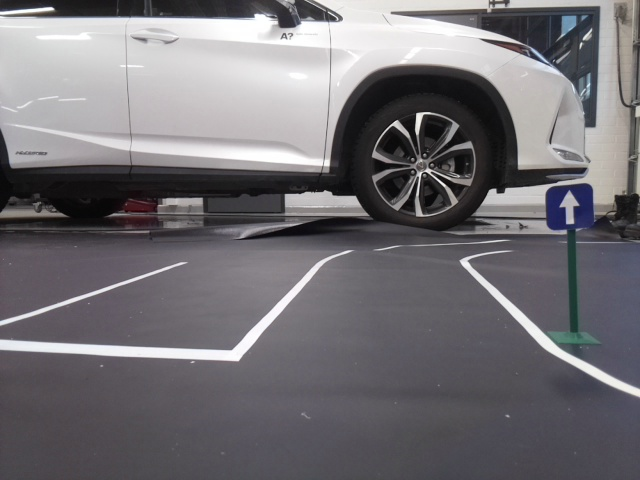OneWay: (546, 187, 592, 226)
